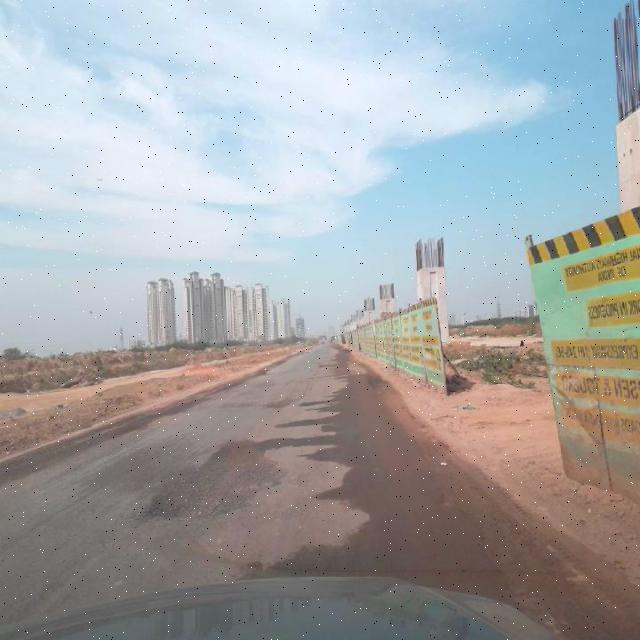D40: (131, 433, 289, 523)
